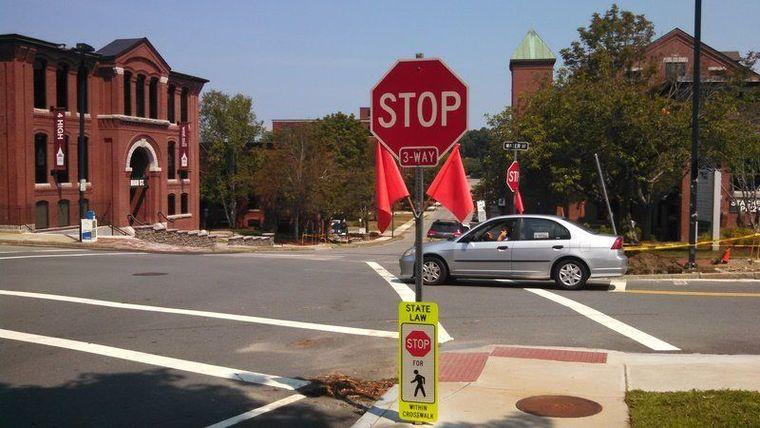Pole: (413, 168, 425, 301)
Sign: (370, 59, 470, 164)
